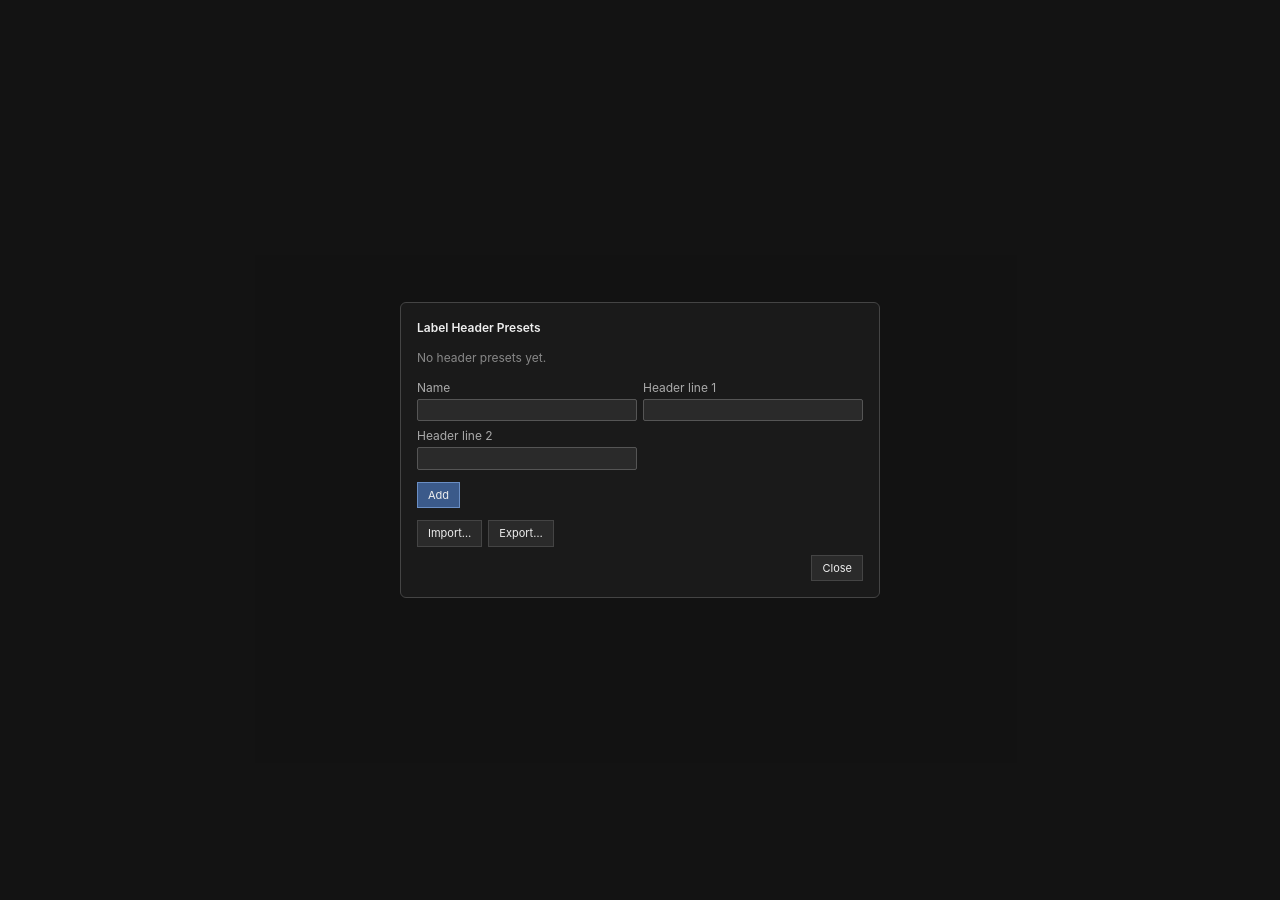
Test: LabelHeaderPresetsDialog › import happy path parses the file and adds validated presets to the store
Click the button "Import…". click: point(450, 534)
box: top-left (417, 520), bottom-right (482, 547)
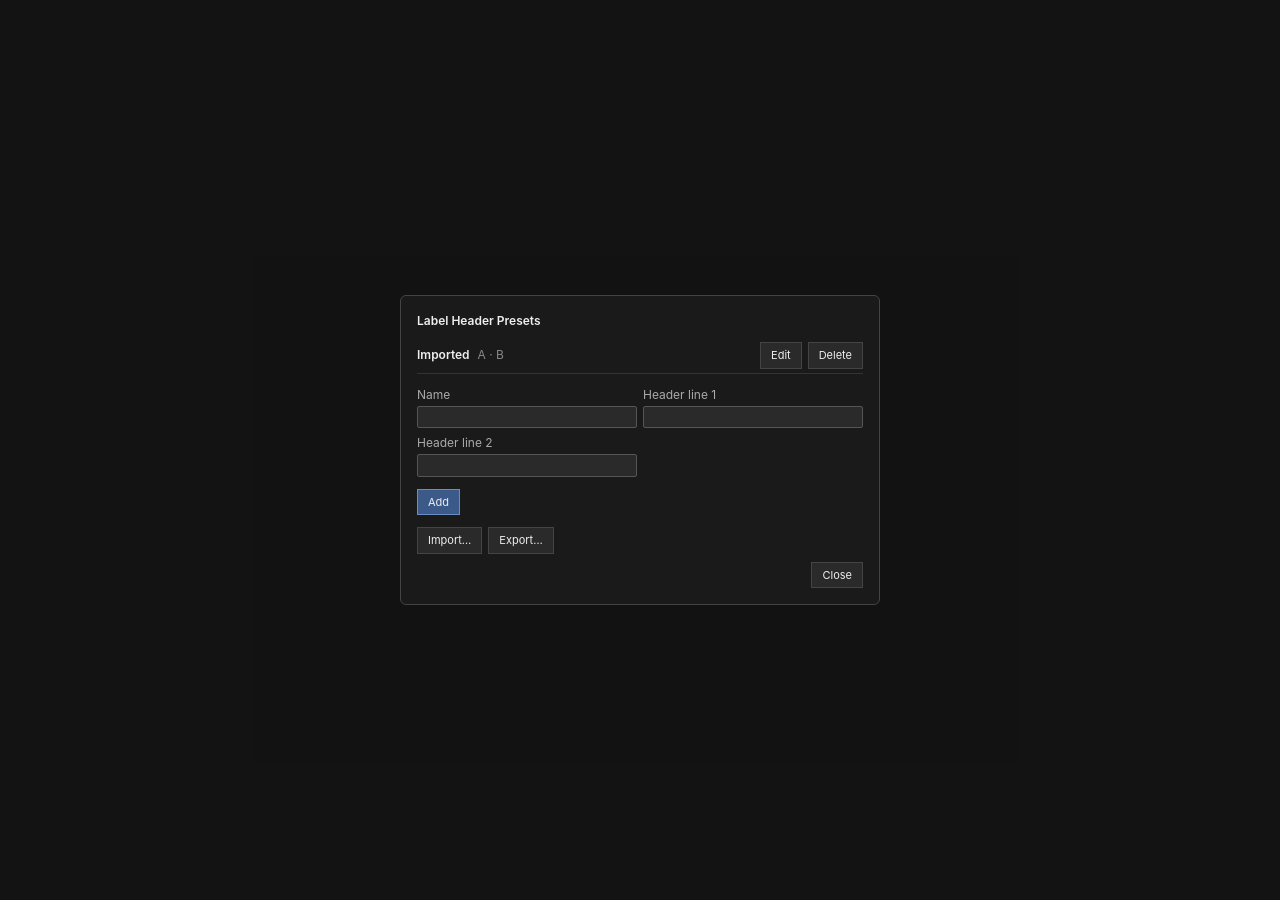
Now the text "Imported" is shown, box top-left (417, 347), bottom-right (470, 362)
